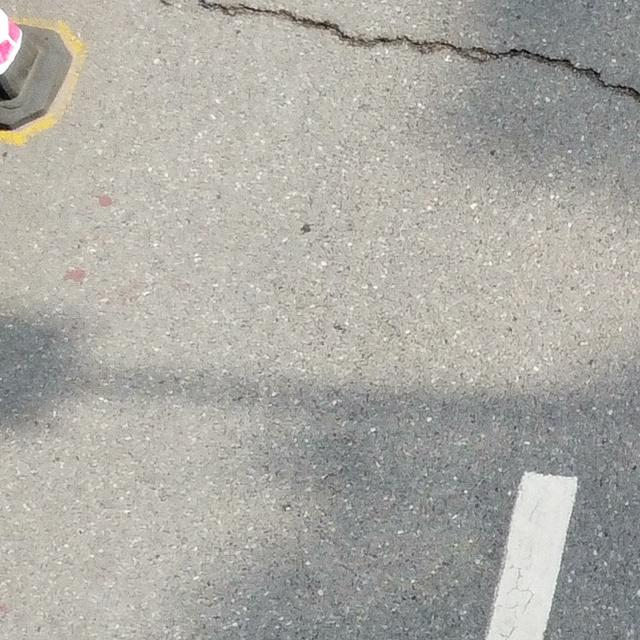TransverseCrack: (199, 1, 640, 101)
